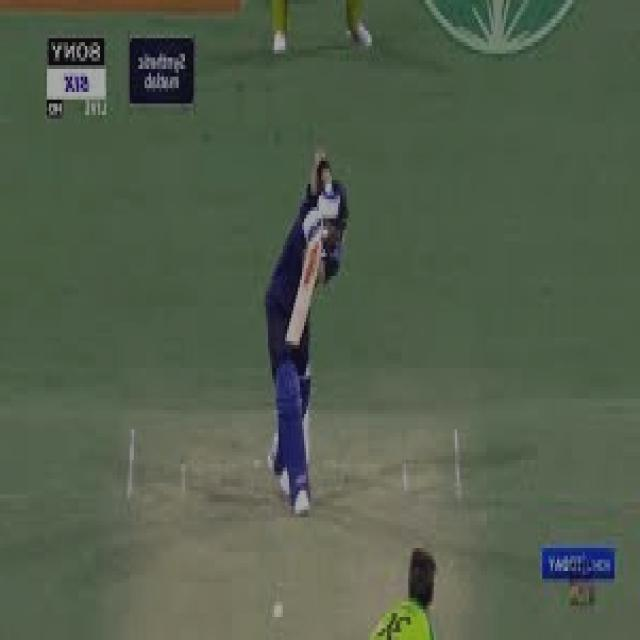bat: (284, 228, 322, 354)
toe: (285, 338, 301, 347)
